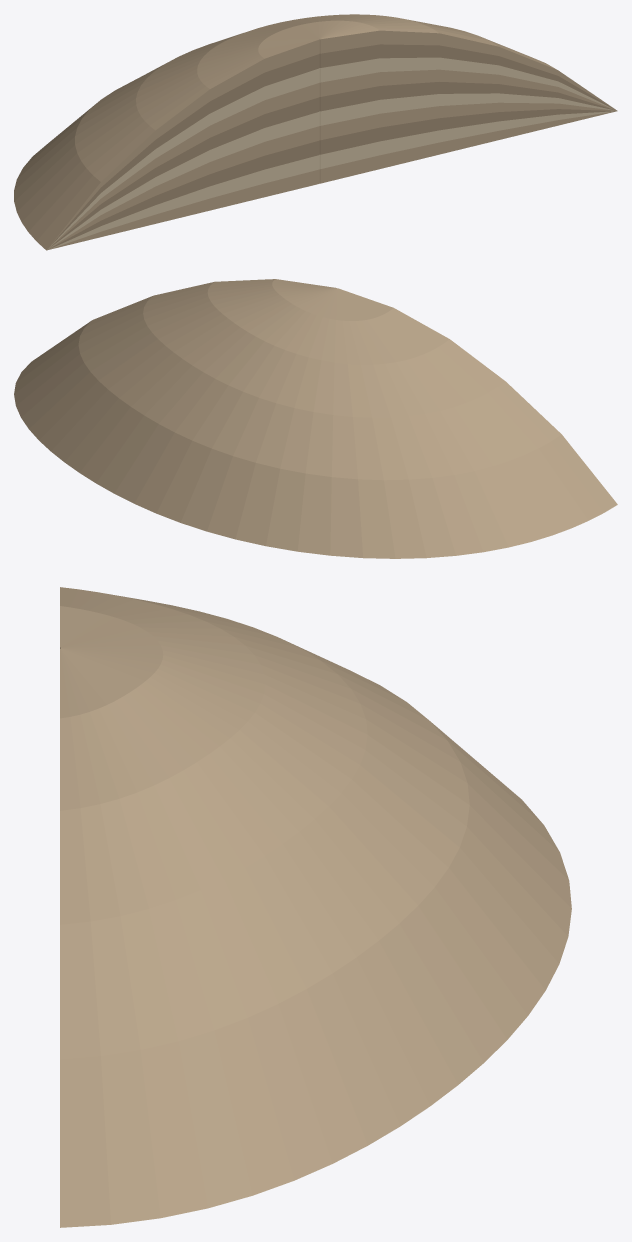
File: stromatolite-mound.glb
3 renders of one model, top to bottom at view 1: azimuth 30°, elevation 25°; view 2: azimuth 150°, elevation 25°; view 3: azimuth 270°, elevation 25°, orthographic. The views are drawn at different scales.
Visible parts, largest first — view 1: low-microbial-mound-with-continuous-domed-laminae; view 2: low-microbial-mound-with-continuous-domed-laminae; view 3: low-microbial-mound-with-continuous-domed-laminae.
Part boxes in pixels (box(x1,y1,x2,y2)): low-microbial-mound-with-continuous-domed-laminae: box(14, 14, 617, 250); low-microbial-mound-with-continuous-domed-laminae: box(14, 279, 617, 558); low-microbial-mound-with-continuous-domed-laminae: box(60, 587, 571, 1227).
Bounding box in the file's own units: 0.65 × 0.1612 × 0.252.
